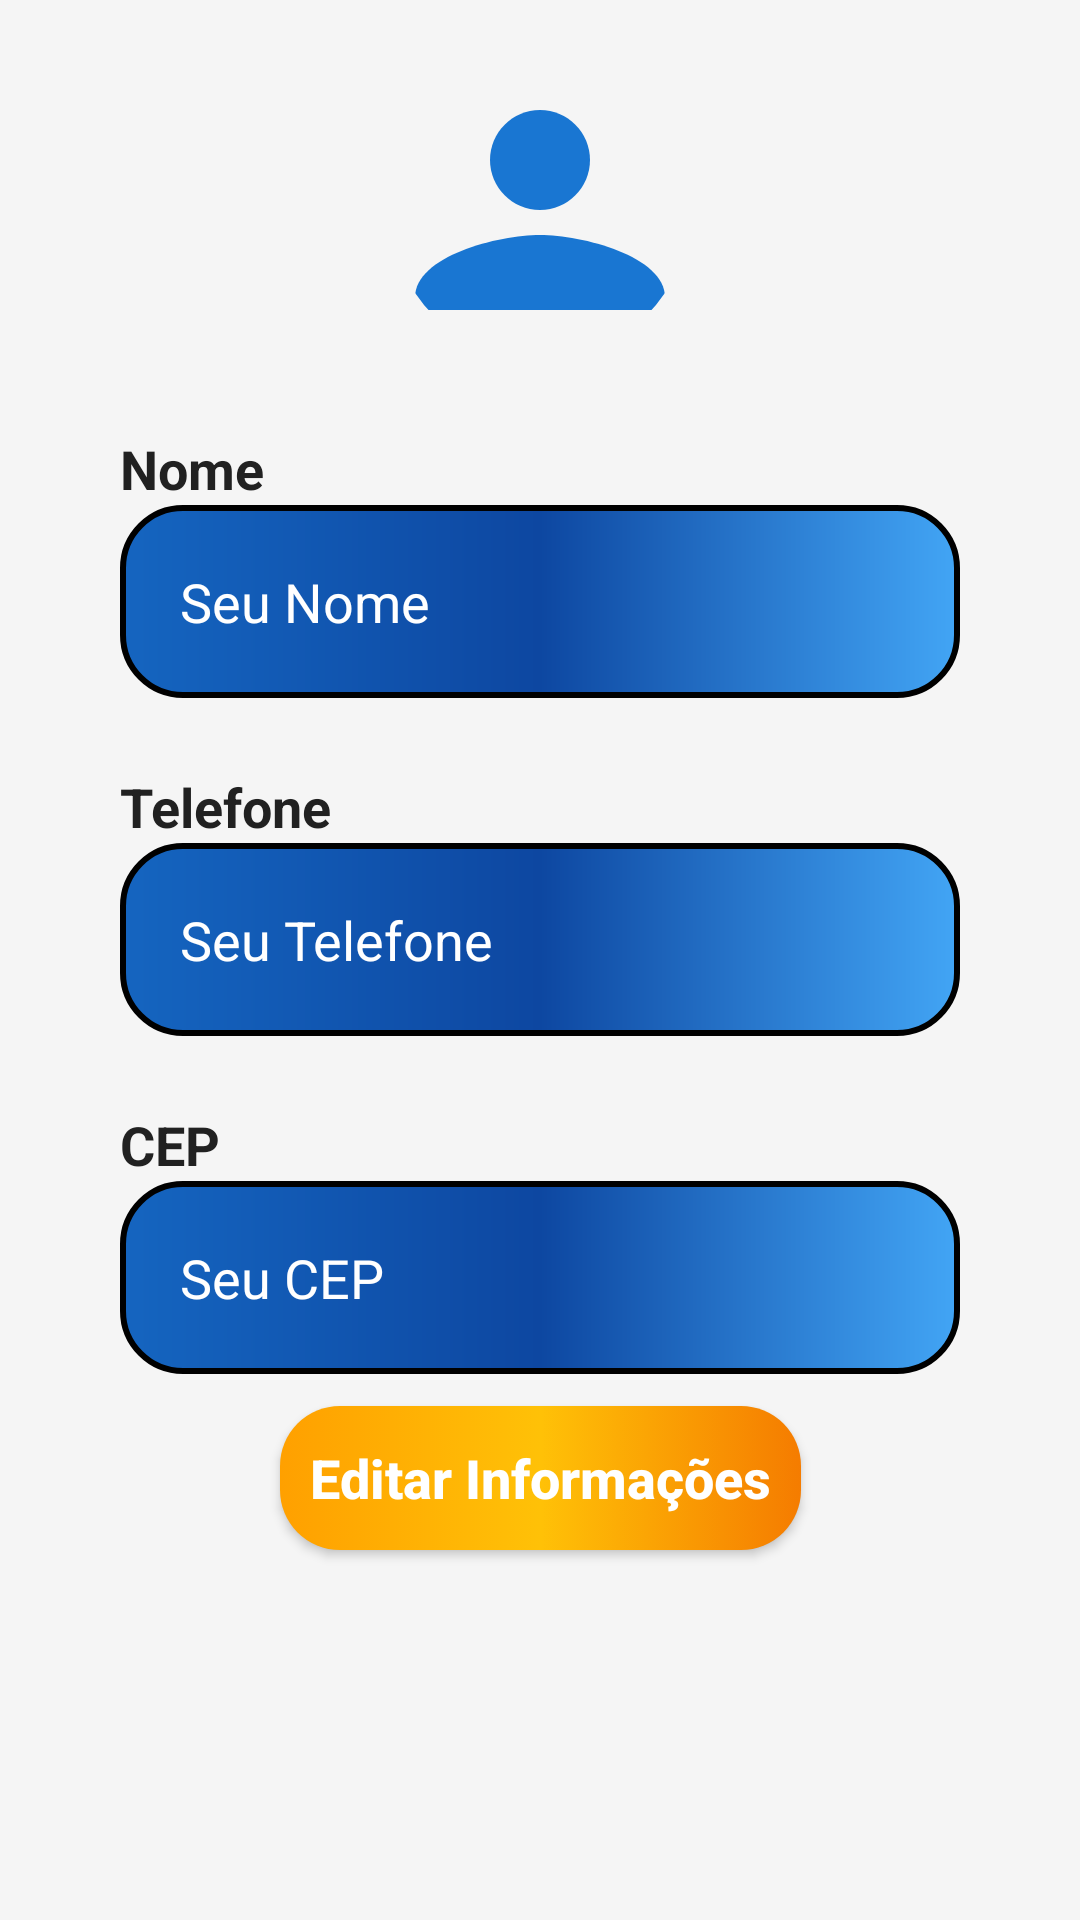

Locate icon controls on the screen. Image size 1080 x 1920, boxes as (x1, y1, x2, y2).
perfil: (415, 110, 665, 310)
